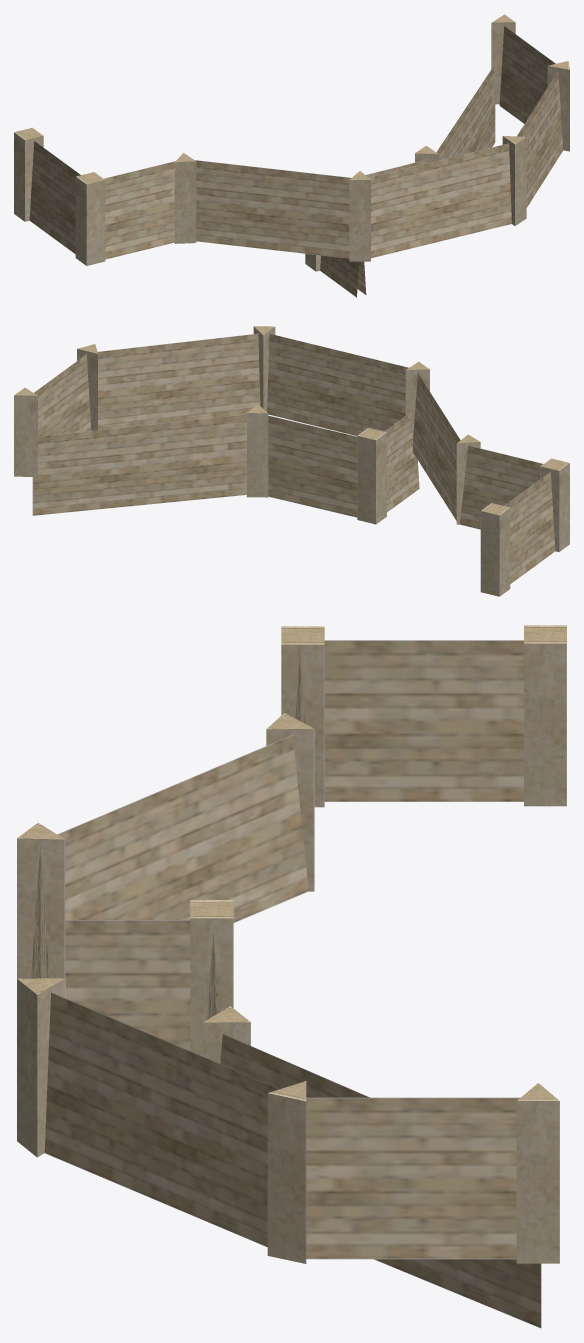
The model's file is poi_nboo_corral_half_32x32_s02_l1.fbx.
3 views of the same model, one above another, from view 1: azimuth 30°, elevation 25°; view 2: azimuth 150°, elevation 25°; view 3: azimuth 270°, elevation 25° (orthographic). The views are drawn at different scales.
Visible parts, largest first — view 1: mesh_node; view 2: mesh_node; view 3: mesh_node.
Boxes of the visible parts, x1=… form: mesh_node: x1=14, y1=14, x2=569, y2=297; mesh_node: x1=14, y1=326, x2=569, y2=596; mesh_node: x1=17, y1=625, x2=566, y2=1328.
Bounding box in the file's own units: 26.02 × 6.15 × 12.71.
1 material, 1 textured.
